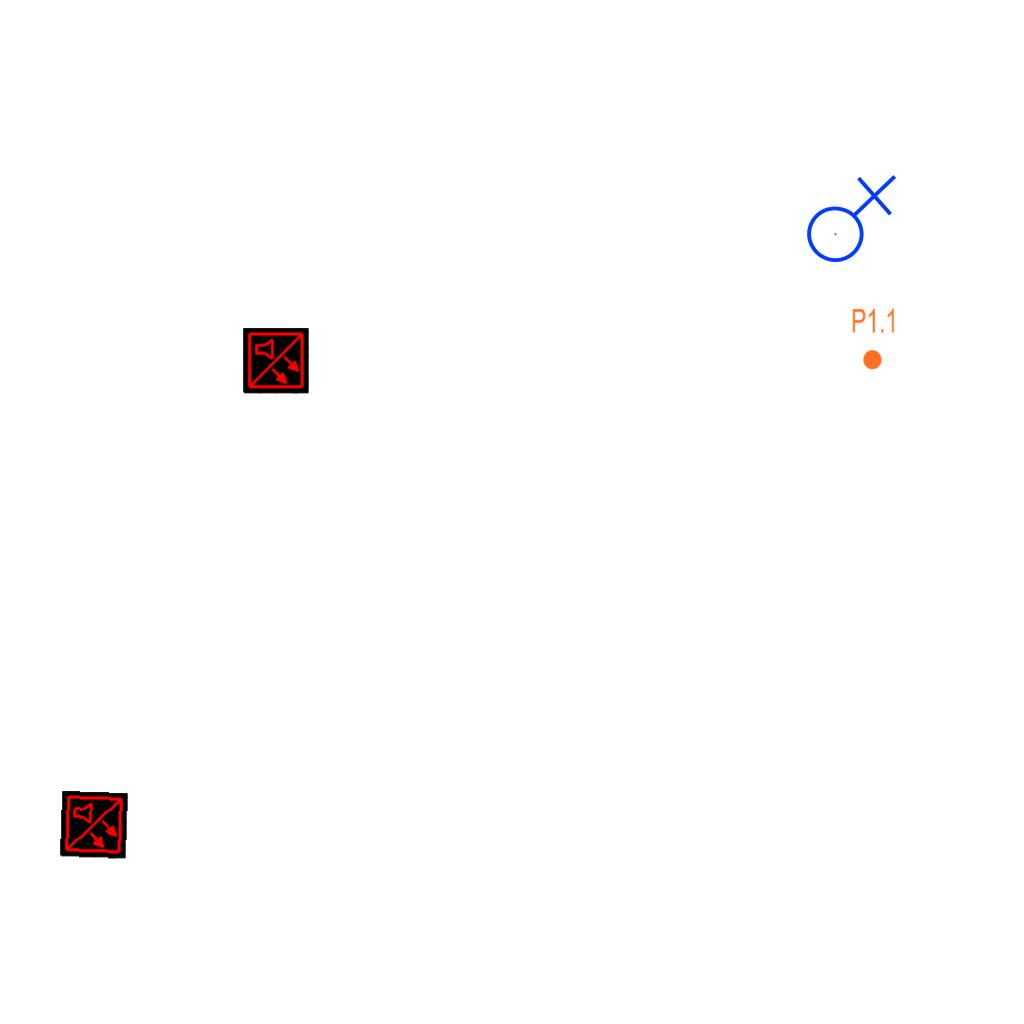Downlight_LED_Einbauleuchten_Flur: (851, 307, 897, 371)
Elektroanschluss_allgemein_230V_Geraeteanschlussdose_230V: (798, 170, 897, 264)
OKW_Multisensormelder_(Kombination_optischer_Rauch-Kahlenmonoxid_Waerme-Melder): (59, 790, 129, 860), (243, 328, 309, 394)
